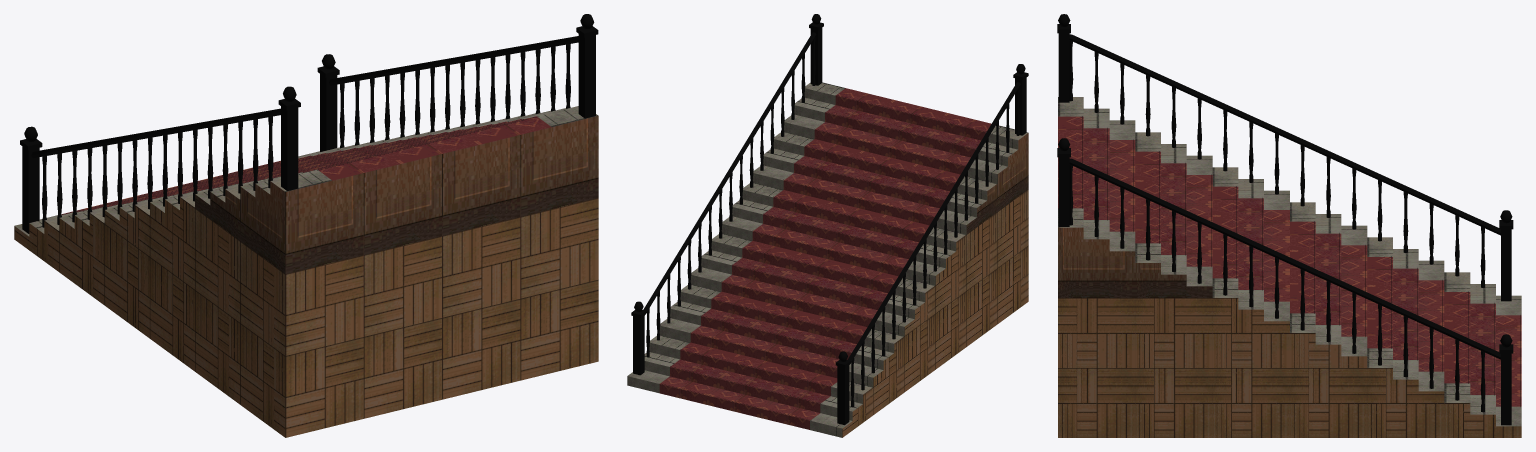
The model's file is SM_stairs_grand.fbx.
3 views of the same model, side by side, from view 1: azimuth 30°, elevation 25°; view 2: azimuth 150°, elevation 25°; view 3: azimuth 270°, elevation 25° (orthographic). The views are drawn at different scales.
Visible parts, largest first — view 1: stairs_grand_step18, stairs_grand_rail_r, stairs_grand_rail_l, stairs_grand_step17, stairs_grand_step16, stairs_grand_step15, stairs_grand_step14, stairs_grand_step13, stairs_grand_step12, stairs_grand_step11, stairs_grand_step10, stairs_grand_step09 (+8 smaller); view 2: stairs_grand_rail_r, stairs_grand_rail_l, stairs_grand_step18, stairs_grand_step17, stairs_grand_step16, stairs_grand_step15, stairs_grand_step14, stairs_grand_step13, stairs_grand_step12, stairs_grand_step11, stairs_grand_step10, stairs_grand_step09 (+8 smaller); view 3: stairs_grand_rail_r, stairs_grand_rail_l, stairs_grand_step17, stairs_grand_step16, stairs_grand_step18, stairs_grand_step15, stairs_grand_step14, stairs_grand_step13, stairs_grand_step12, stairs_grand_step11, stairs_grand_step10, stairs_grand_step09 (+8 smaller).
Part boxes in pixels (x1,y1,x2,y2): stairs_grand_step18: [270, 106, 598, 437]; stairs_grand_rail_r: [20, 86, 300, 233]; stairs_grand_rail_l: [317, 14, 598, 151]; stairs_grand_step17: [255, 108, 565, 426]; stairs_grand_step16: [240, 110, 550, 415]; stairs_grand_step15: [225, 113, 535, 404]; stairs_grand_step14: [210, 116, 520, 393]; stairs_grand_step13: [195, 118, 505, 382]; stairs_grand_step12: [180, 121, 490, 371]; stairs_grand_step11: [165, 123, 475, 360]; stairs_grand_step10: [150, 126, 460, 349]; stairs_grand_step09: [134, 129, 445, 338]; stairs_grand_rail_r: [835, 64, 1028, 425]; stairs_grand_rail_l: [631, 14, 823, 375]; stairs_grand_step18: [804, 82, 1028, 308]; stairs_grand_step17: [794, 97, 1018, 316]; stairs_grand_step16: [784, 114, 1007, 323]; stairs_grand_step15: [773, 131, 997, 331]; stairs_grand_step14: [763, 148, 987, 338]; stairs_grand_step13: [753, 165, 976, 346]; stairs_grand_step12: [742, 182, 966, 354]; stairs_grand_step11: [732, 199, 956, 361]; stairs_grand_step10: [721, 216, 945, 369]; stairs_grand_step09: [711, 233, 935, 376]; stairs_grand_rail_r: [1057, 14, 1513, 301]; stairs_grand_rail_l: [1057, 138, 1513, 425]; stairs_grand_step17: [1083, 108, 1109, 437]; stairs_grand_step16: [1109, 120, 1135, 437]; stairs_grand_step18: [1058, 97, 1083, 437]; stairs_grand_step15: [1135, 132, 1160, 437]; stairs_grand_step14: [1161, 144, 1186, 437]; stairs_grand_step13: [1186, 155, 1212, 437]; stairs_grand_step12: [1212, 167, 1238, 437]; stairs_grand_step11: [1238, 179, 1263, 437]; stairs_grand_step10: [1264, 190, 1289, 437]; stairs_grand_step09: [1290, 202, 1315, 437].
Size of the model in its own units: 4 by 4.23 by 6.01.
